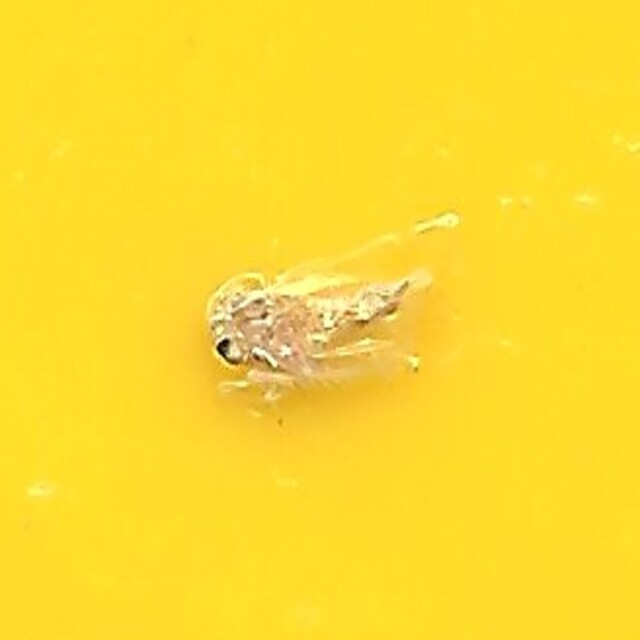Hemiptera: (195, 248, 445, 392)
